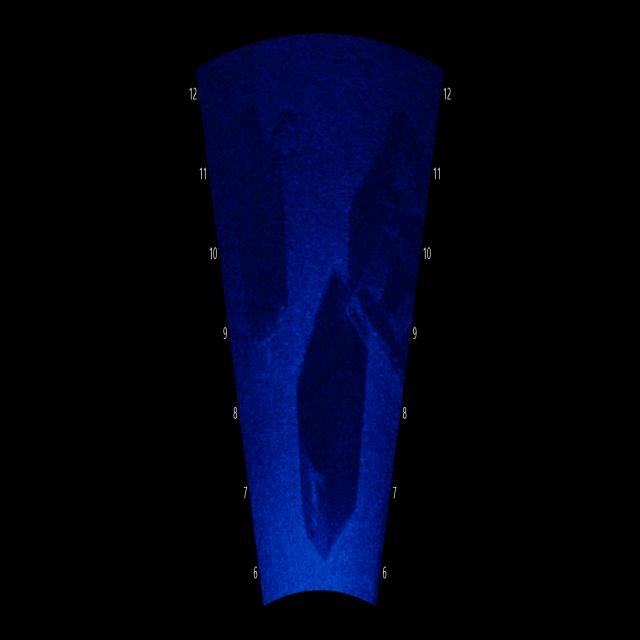square: (288, 260, 372, 578), (236, 106, 298, 359)
